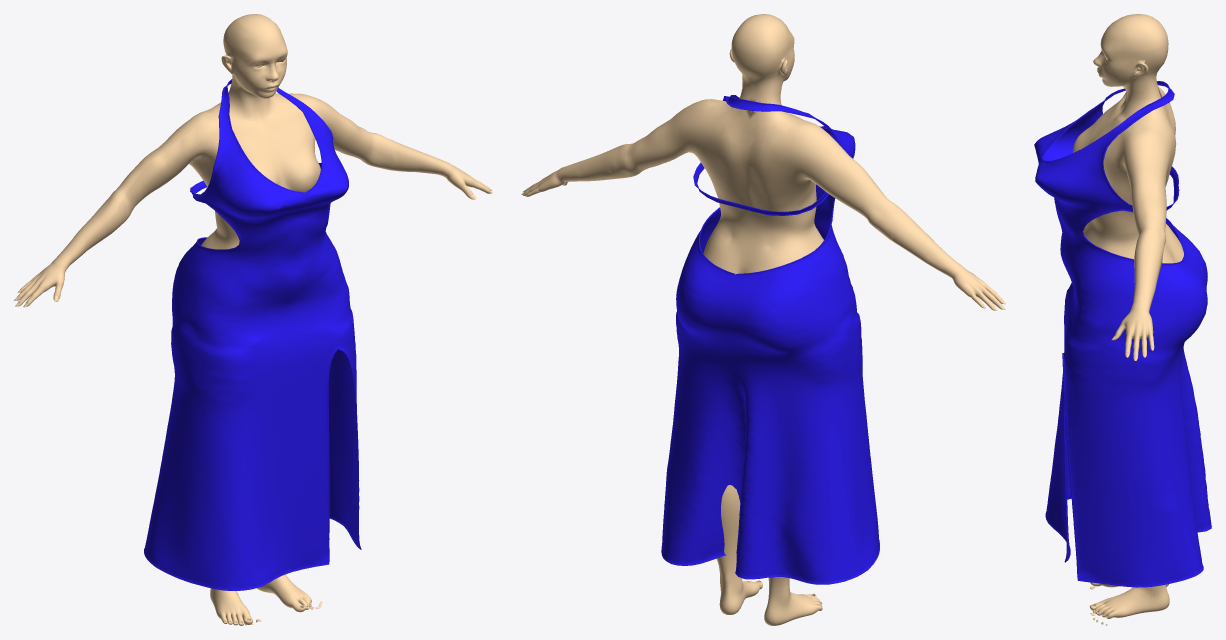
The model's file is dress9.glb.
3 renders of one model, left to right at view 1: azimuth 30°, elevation 25°; view 2: azimuth 150°, elevation 25°; view 3: azimuth 270°, elevation 25°, orthographic.
Parts seen in each view (by area): view 1: EveningDress, Body.003; view 2: EveningDress, Body.003; view 3: EveningDress, Body.003.
Part boxes in pixels (<box>): EveningDress: <box>144,79,361,590</box>; Body.003: <box>16,14,492,625</box>; EveningDress: <box>661,95,879,584</box>; Body.003: <box>523,14,1002,625</box>; EveningDress: <box>1034,81,1211,587</box>; Body.003: <box>1073,14,1183,618</box>.
Bounding box in the file's own units: 1.58 × 1.86 × 0.5118.
